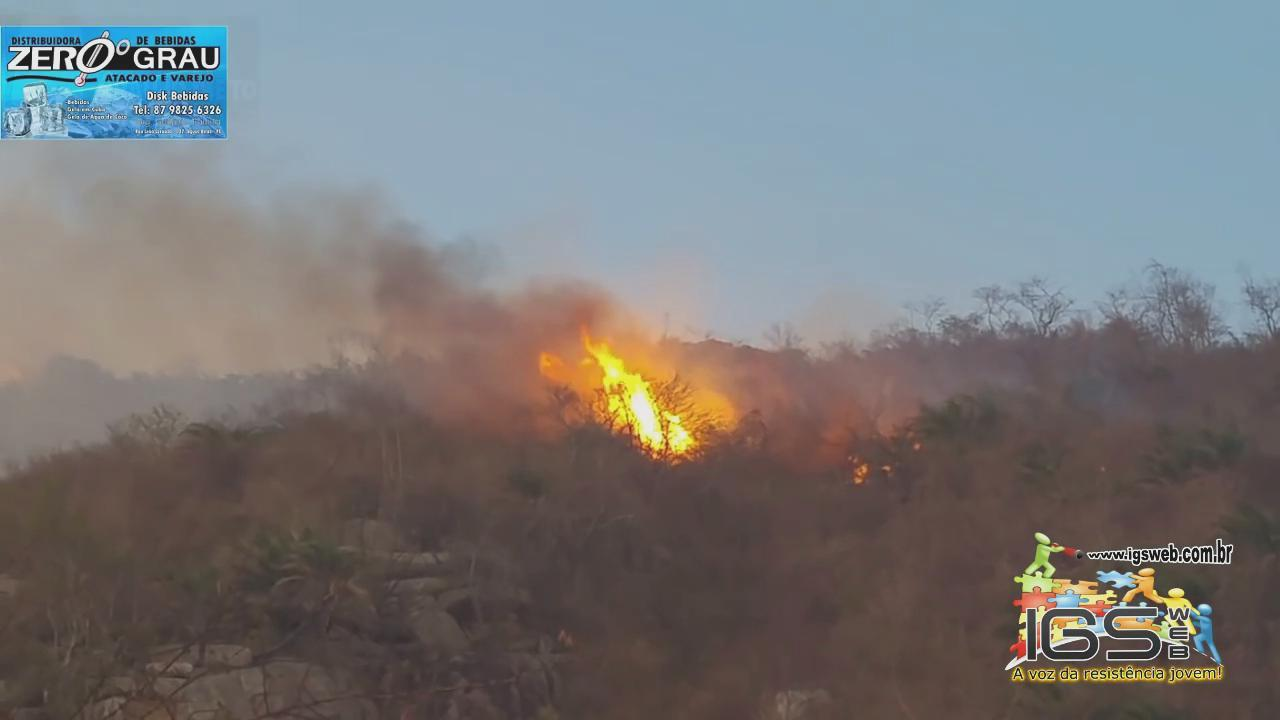Fire: (547, 338, 713, 455), (846, 464, 872, 485)
